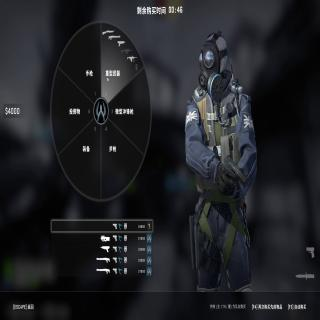CT-Head: (198, 31, 228, 90)
